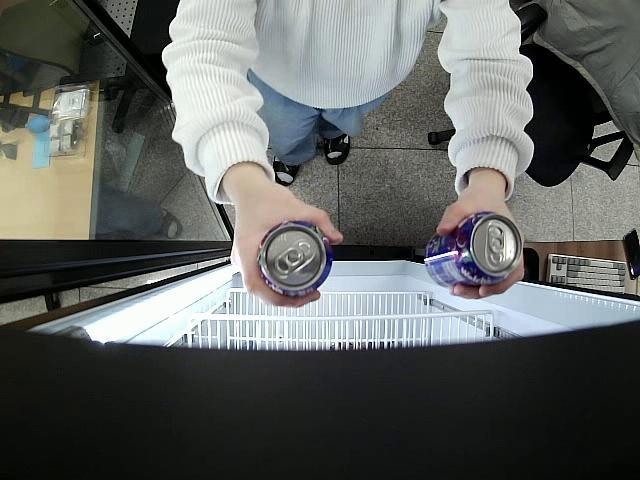14_welchsGrape: (422, 212, 523, 287), (254, 219, 334, 298)
